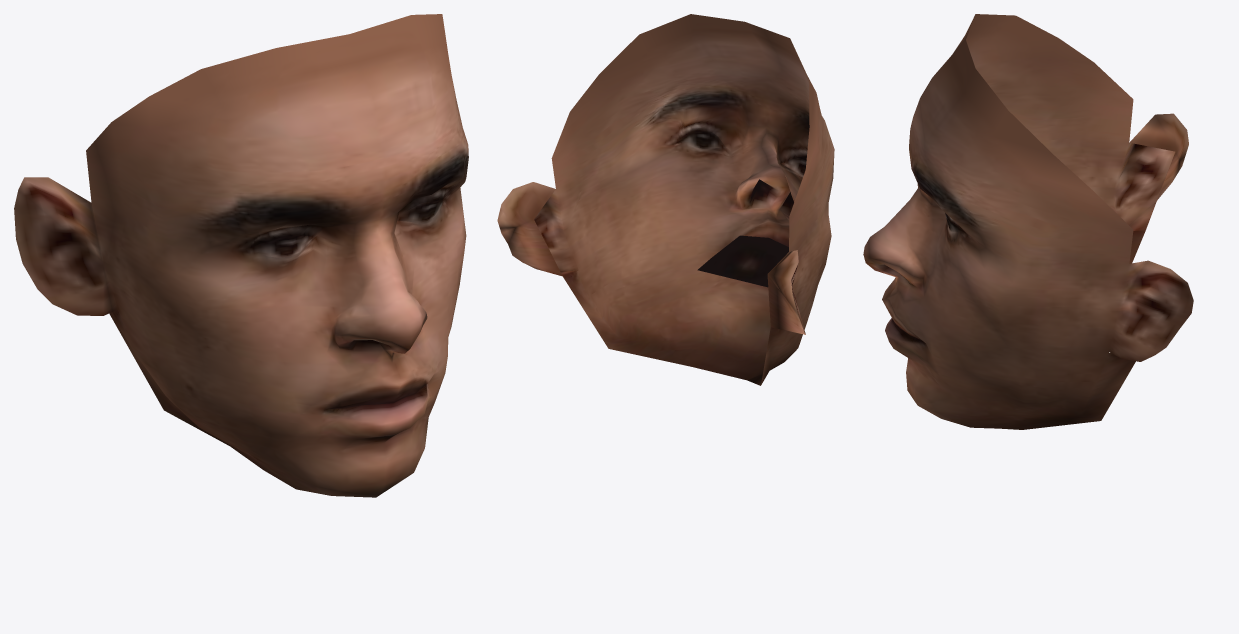
File: deu-musiala.glb
3 renders of one model, left to right at view 1: azimuth 30°, elevation 25°; view 2: azimuth 150°, elevation 25°; view 3: azimuth 270°, elevation 25°, orthographic. The views are drawn at different scales.
Parts seen in each view (by area): view 1: deu-musiala; view 2: deu-musiala; view 3: deu-musiala.
Part boxes in pixels (box(x1,y1,x2,y2)): deu-musiala: box(14, 14, 468, 497); deu-musiala: box(497, 14, 834, 385); deu-musiala: box(863, 14, 1193, 429).
Bounding box in the file's own units: 0.179 × 0.2985 × 0.1688.
1 material, 1 textured.
